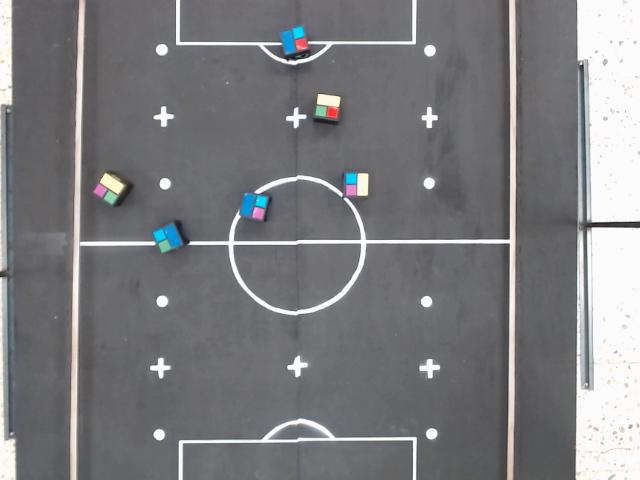robot: (90, 170, 126, 208), (150, 221, 184, 255), (237, 190, 269, 222), (278, 24, 309, 55), (312, 91, 343, 121), (341, 170, 370, 199)
